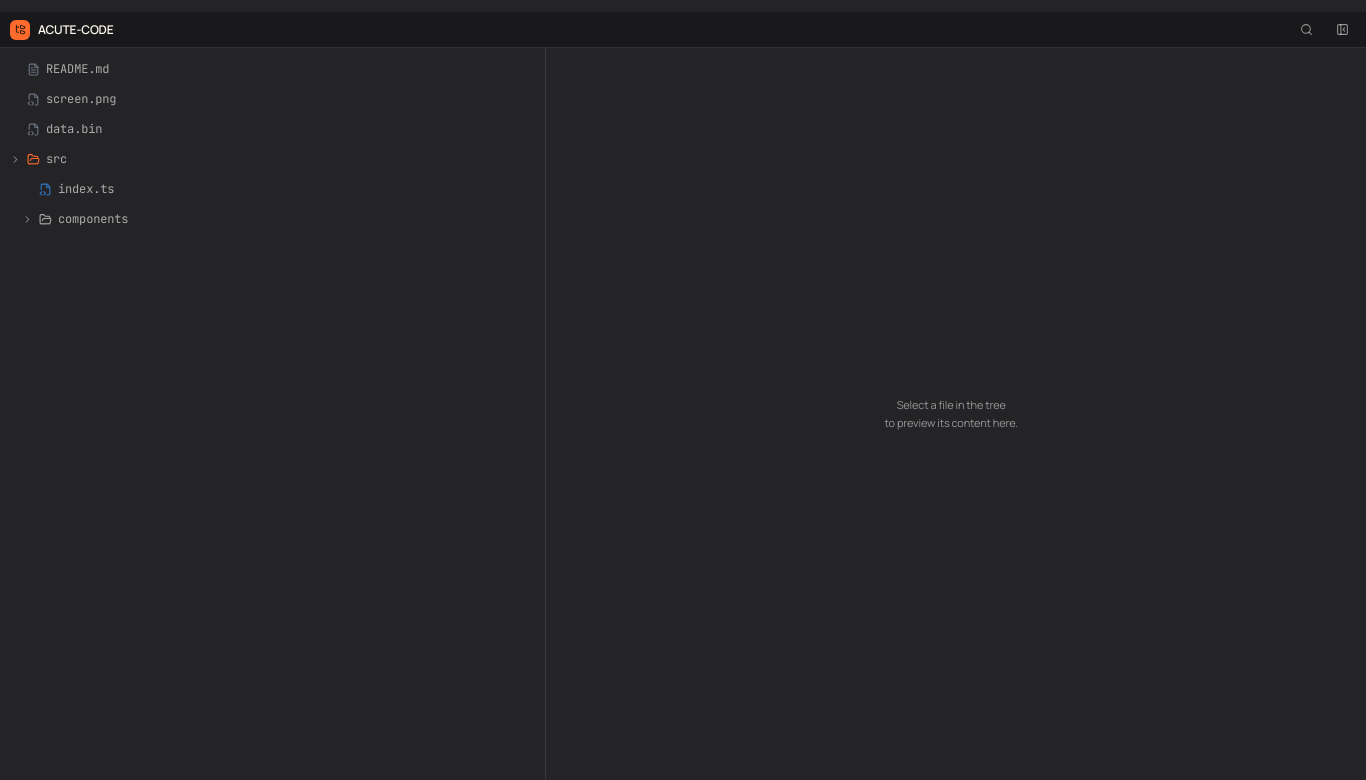
Test: FilesExplorerPanel (ROUND-48 R48-c) › folder click expands nested children, second click collapses
expect the button "src" is shown: met, box 4,144 -> 531,174
Click the button "components".
click(93, 219)  # box 4,204 -> 531,234
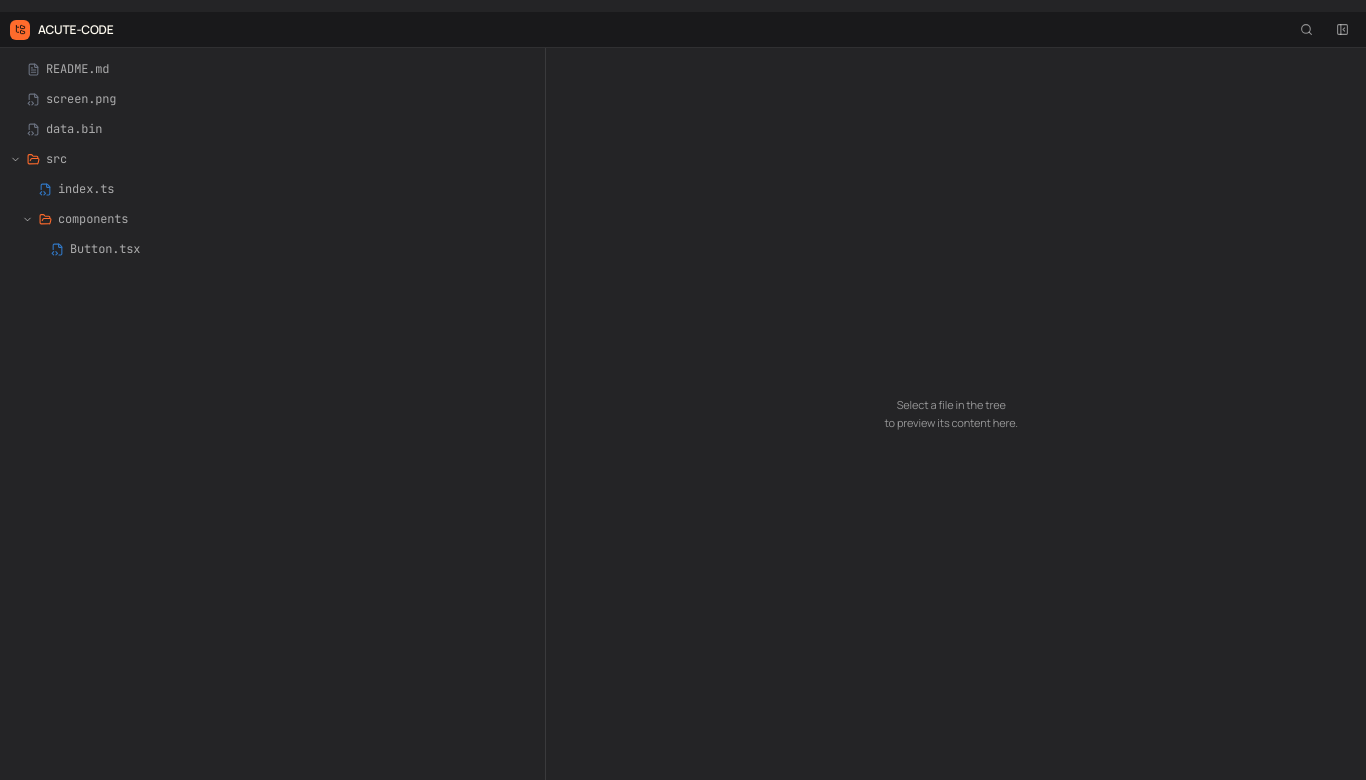
expect the button "Button.tsx" is shown: met, box 4,234 -> 531,264
Click the button "components".
click(93, 219)  # box 4,204 -> 531,234
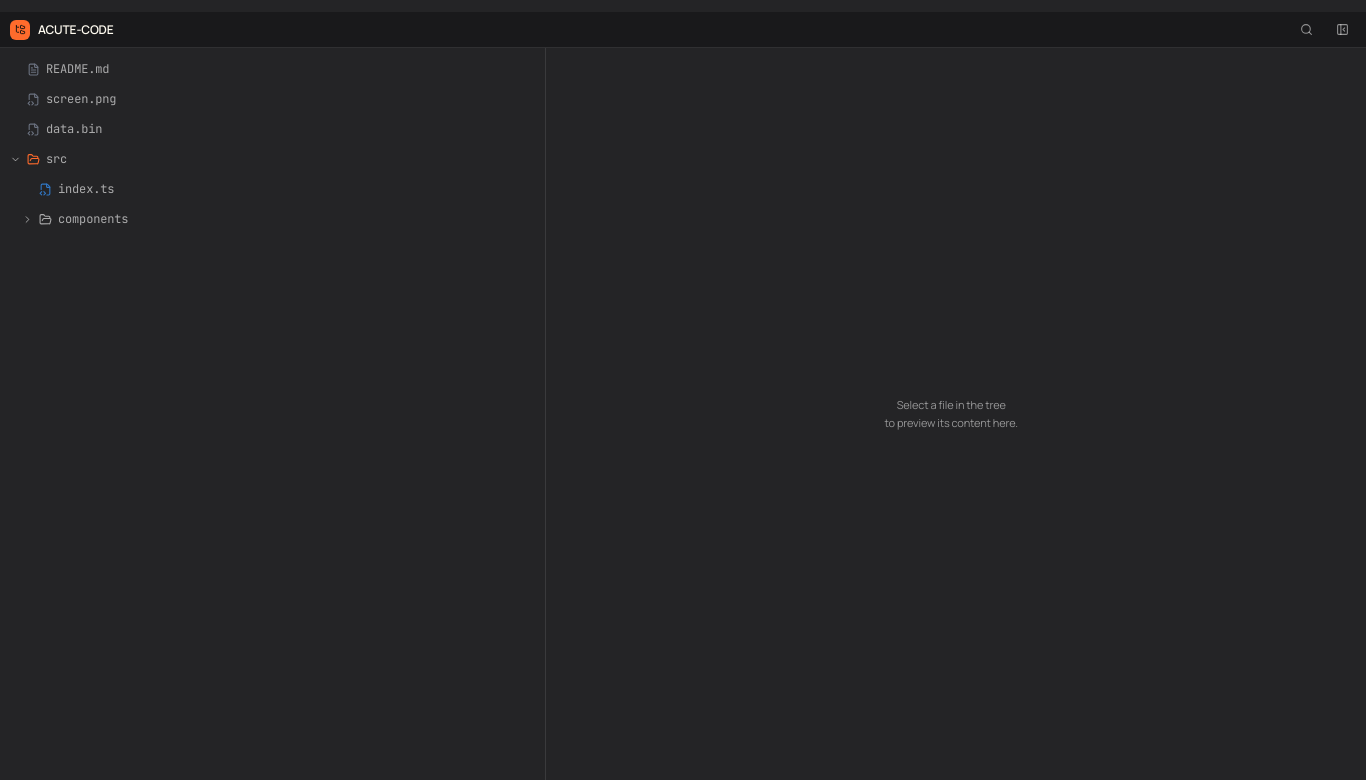
expect the button "Button.tsx" is gone: met
